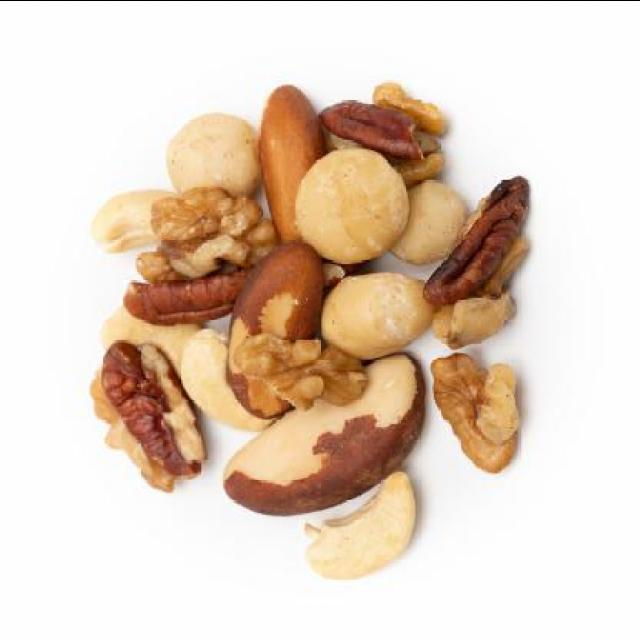Frutta secca: (85, 78, 538, 584)
